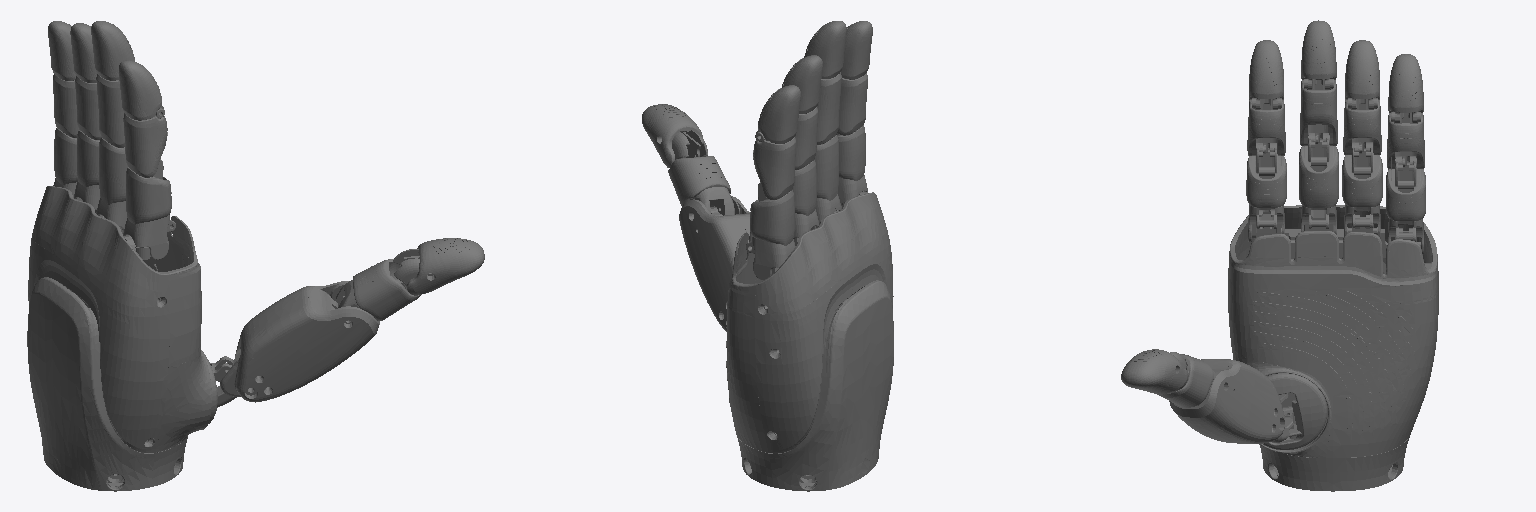
URDF robot description (omnihand_pro_left):
<?xml version="1.0" ?>
<!-- =================================================================================== -->
<!-- |    This document was autogenerated by xacro from xacro/omnihand_pro_left.xacro  | -->
<!-- |    EDITING THIS FILE BY HAND IS NOT RECOMMENDED                                 | -->
<!-- =================================================================================== -->
<robot name="omnihand_pro_left">
  <material name="black">
    <color rgba="0.5 0.5 0.5 1.0"/>
  </material>
  <link name="base_link">
    <visual>
      <origin rpy="0.0 0.0 0.0" xyz="0.0 0.0 0.0"/>
      <geometry>
        <box size="0.001 0.001 0.001"/>
      </geometry>
    </visual>
  </link>
  <joint name="L_palm_joint" type="fixed">
    <origin rpy="0.0 0.0 0.0" xyz="0.0 0.0 0.0"/>
    <parent link="base_link"/>
    <child link="L_palm"/>
  </joint>
  <link name="L_palm">
    <visual>
      <origin rpy="0 0 0" xyz="0 0 0"/>
      <geometry>
        <mesh filename="package://omnihand_pro_description/meshes/l_palm.STL"/>
      </geometry>
      <material name="black"/>
    </visual>
    <inertial>
      <origin rpy="0 0 0" xyz="-0.00425607657857528 0.000984907743219104 0.0569954669646572"/>
      <mass value="0.831592534870634"/>
      <inertia ixx="0.00130295787397277" ixy="1.00395530019145e-06" ixz="-2.62221439754335e-05" iyy="0.000759187526142393" iyz="-2.944807671301e-05" izz="0.000650439149629946"/>
    </inertial>
    <collision>
      <origin rpy="0 0 0" xyz="0 0 0.005"/>
      <geometry>
        <cylinder length="0.01" radius="0.032"/>
      </geometry>
    </collision>
    <collision>
      <origin rpy="0 0 0" xyz="0 0 0.057"/>
      <geometry>
        <box size="0.05 0.09 0.09"/>
      </geometry>
    </collision>
  </link>
  <!-- thumb  -->
  <link name="L_thumb_roll_link">
    <visual>
      <origin rpy="0 0 0" xyz="0 0 0"/>
      <geometry>
        <mesh filename="package://omnihand_pro_description/meshes/l_thumb_roll.STL"/>
      </geometry>
      <material name="black"/>
    </visual>
    <inertial>
      <origin rpy="0 0 0" xyz="0.0238985392698507 -8.492755494241e-05 0.00143588019194235"/>
      <mass value="0.0487218724123021"/>
      <inertia ixx="1.16014813613108e-05" ixy="1.23718071545455e-07" ixz="-3.36389573955908e-07" iyy="6.59632610273689e-06" iyz="2.95789245057348e-07" izz="6.64077304903063e-06"/>
    </inertial>
  </link>
  <joint name="L_thumb_roll_joint" type="revolute">
    <origin rpy="-1.3787926000000001 0 0" xyz="-0.00148 -0.022278 0.04025"/>
    <parent link="L_palm"/>
    <child link="L_thumb_roll_link"/>
    <axis xyz="1 0 0"/>
    <limit effort="0.134" lower="-0.73" upper="0" velocity="2.38"/>
  </joint>
  <link name="L_thumb_abad_link">
    <visual>
      <origin rpy="0 0 0" xyz="0 0 0"/>
      <geometry>
        <mesh filename="package://omnihand_pro_description/meshes/l_thumb_abad.STL"/>
      </geometry>
      <material name="black"/>
    </visual>
    <inertial>
      <origin rpy="0 0 0" xyz="0.00144112186551029 0.00076971553695547 0.0110530851904386"/>
      <mass value="0.00527730022012764"/>
      <inertia ixx="5.13938107714071e-07" ixy="-2.10724699229959e-09" ixz="1.0099134807133e-08" iyy="3.23678037229255e-07" iyz="6.91586588373309e-08" izz="2.43364847603047e-07"/>
    </inertial>
    <collision>
      <origin rpy="0 0 0.9" xyz="0 0 0"/>
      <geometry>
        <box size="0.035 0.006 0.02"/>
      </geometry>
    </collision>
  </link>
  <joint name="L_thumb_abad_joint" type="revolute">
    <origin rpy="3.1415926 1.0996 3.1415926" xyz="0.029071 0 -0.0033014"/>
    <parent link="L_thumb_roll_link"/>
    <child link="L_thumb_abad_link"/>
    <axis xyz="0 -1 0"/>
    <limit effort="0.317" lower="0" upper="0.94" velocity="2.33"/>
  </joint>
  <link name="L_thumb_mcp_link">
    <visual>
      <origin rpy="0 0 0" xyz="0 0 0"/>
      <geometry>
        <mesh filename="package://omnihand_pro_description/meshes/thumb_mcp.STL"/>
      </geometry>
      <material name="black"/>
    </visual>
    <inertial>
      <origin rpy="0 0 0" xyz="0.00248919792890584 -0.000126945293118824 0.0270125022282254"/>
      <mass value="0.0238744814807847"/>
      <inertia ixx="9.14065262802198e-06" ixy="-1.29455343848178e-08" ixz="1.28925259059347e-07" iyy="1.13640026182741e-05" iyz="1.59529488365259e-08" izz="2.86247043401986e-06"/>
    </inertial>
    <collision>
      <origin rpy="0 -1.57 0" xyz="0.005 0 0.03"/>
      <geometry>
        <box size="0.064 0.023 0.03"/>
      </geometry>
    </collision>
  </link>
  <joint name="L_thumb_mcp_joint" type="revolute">
    <origin rpy="0 0.66452 -1.5708" xyz="-0.0016774 -0.0068611 0.022935"/>
    <parent link="L_thumb_abad_link"/>
    <child link="L_thumb_mcp_link"/>
    <axis xyz="0 -1 0"/>
    <limit effort="0.8" lower="-0.85" upper="0" velocity="1.35"/>
  </joint>
  <link name="L_thumb_pip_link">
    <visual>
      <origin rpy="0 0 0" xyz="0 0 0"/>
      <geometry>
        <mesh filename="package://omnihand_pro_description/meshes/thumb_pip.STL"/>
      </geometry>
      <material name="black"/>
    </visual>
    <inertial>
      <origin rpy="0 0 0" xyz="-0.00238172899603142 -0.000356731641777103 0.0132495532127846"/>
      <mass value="0.015089750823072"/>
      <inertia ixx="1.307652825223e-06" ixy="-2.30842431261842e-09" ixz="1.78861814916216e-07" iyy="1.76921581769367e-06" iyz="-1.30568351519278e-08" izz="8.42951187578533e-07"/>
    </inertial>
    <collision>
      <origin rpy="0 0 0" xyz="0 -0.002 0.02"/>
      <geometry>
        <cylinder length="0.02" radius="0.01"/>
      </geometry>
    </collision>
  </link>
  <joint name="L_thumb_pip_joint" type="revolute">
    <origin rpy="0 0 0" xyz="0.0067768 0 0.05582"/>
    <parent link="L_thumb_mcp_link"/>
    <child link="L_thumb_pip_link"/>
    <axis xyz="0  -1 0"/>
    <limit effort="0.92" lower="-1.29" upper="0" velocity="1.87"/>
  </joint>
  <link name="L_thumb_dip_link">
    <visual>
      <origin rpy="0 0 0" xyz="0 0 0"/>
      <geometry>
        <mesh filename="package://omnihand_pro_description/meshes/thumb_dip.STL"/>
      </geometry>
      <material name="black"/>
    </visual>
    <inertial>
      <origin rpy="0 0 0" xyz="-0.00103086462486497 4.35579912222428e-07 0.0111718009868479"/>
      <mass value="0.0166245749238282"/>
      <inertia ixx="1.55367650349561e-06" ixy="6.28496740782693e-11" ixz="-2.68802086888384e-07" iyy="1.43025255900936e-06" iyz="3.60153740856451e-11" izz="8.87371852515915e-07"/>
    </inertial>
    <collision>
      <origin rpy="0 0 0" xyz="0 0 0.015"/>
      <geometry>
        <cylinder length="0.03" radius="0.01"/>
      </geometry>
    </collision>
  </link>
  <joint name="L_thumb_dip_joint" type="revolute">
    <origin rpy="0 0 0" xyz=" -0.0025791  0 0.034516"/>
    <parent link="L_thumb_pip_link"/>
    <child link="L_thumb_dip_link"/>
    <axis xyz="0 -1 0"/>
    <limit effort="0.92" lower="-1.31" upper="0" velocity="1.9"/>
    <mimic joint="L_thumb_pip_joint" multiplier="0.8068" offset="0"/>
  </joint>
  <link name="L_thumb_tip">
    <collision>
      <origin rpy="0 0 0" xyz="0 0 0"/>
      <geometry>
        <sphere radius="0.001"/>
      </geometry>
    </collision>
  </link>
  <joint name="L_thumb_tip_joint" type="fixed">
    <origin rpy="0 0 0" xyz="-0.01107 0 0.02778"/>
    <parent link="L_thumb_dip_link"/>
    <child link="L_thumb_tip"/>
    <axis xyz="0 0 0"/>
  </joint>
  <!-- index  -->
  <link name="L_index_abad_link">
    <visual>
      <origin rpy="0 0 0" xyz="0 0 0"/>
      <geometry>
        <mesh filename="package://omnihand_pro_description/meshes/index_abad.STL"/>
      </geometry>
      <material name="black"/>
    </visual>
    <inertial>
      <origin rpy="0 0 0" xyz="0.00904689264775126 -2.37541539321873e-06 0.00296439795566343"/>
      <mass value="0.00769184155607912"/>
      <inertia ixx="3.12253146637431e-07" ixy="8.36823610669688e-11" ixz="3.47679984094986e-08" iyy="1.96445680122249e-07" iyz="6.80359270914641e-11" izz="2.98132181313685e-07"/>
    </inertial>
  </link>
  <joint name="L_index_abad_joint" type="revolute">
    <origin rpy="0 0 0" xyz="-0.0134 -0.030778 0.11936"/>
    <parent link="L_palm"/>
    <child link="L_index_abad_link"/>
    <axis xyz="1 0 0"/>
    <limit effort="1.001" lower="-0.26" upper="0.26" velocity="2.16"/>
  </joint>
  <link name="L_index_mcp_link">
    <visual>
      <origin rpy="0 0 0" xyz="0 0 0"/>
      <geometry>
        <mesh filename="package://omnihand_pro_description/meshes/index_mcp.STL"/>
      </geometry>
      <material name="black"/>
    </visual>
    <inertial>
      <origin rpy="0 0 0" xyz="-0.00199825952289442 -2.64457175807586e-05 0.0201667389503313"/>
      <mass value="0.00942126624293676"/>
      <inertia ixx="1.22975708566729e-06" ixy="2.28040809755226e-10" ixz="-5.99595621936577e-08" iyy="1.34371119474184e-06" iyz="-7.2313211083901e-10" izz="3.61297485727319e-07"/>
    </inertial>
    <collision>
      <origin rpy="0 0 0" xyz="-0.002 0 0.016"/>
      <geometry>
        <cylinder length="0.038" radius="0.01"/>
      </geometry>
    </collision>
  </link>
  <joint name="L_index_mcp_joint" type="revolute">
    <origin rpy="0 0 0" xyz="0.01357 0 0"/>
    <parent link="L_index_abad_link"/>
    <child link="L_index_mcp_link"/>
    <axis xyz="0 1 0"/>
    <limit effort="0.42" lower="0" upper="1.33" velocity="2.22"/>
  </joint>
  <link name="L_index_pip_link">
    <visual>
      <origin rpy="0 0 0" xyz="0 0 0"/>
      <geometry>
        <mesh filename="package://omnihand_pro_description/meshes/index_pip.STL"/>
      </geometry>
      <material name="black"/>
    </visual>
    <inertial>
      <origin rpy="0 0 0" xyz="0.000915277748706721 -2.44819798689566e-05 0.0134565632396798"/>
      <mass value="0.00438956668936868"/>
      <inertia ixx="3.90192390925837e-07" ixy="-1.18711764286958e-10" ixz="3.07110243989117e-08" iyy="3.39842342249121e-07" iyz="4.52776521802555e-11" izz="2.34598309279793e-07"/>
    </inertial>
    <collision>
      <origin rpy="0 0 0" xyz="0.001 0 0.015"/>
      <geometry>
        <cylinder length="0.022" radius="0.01"/>
      </geometry>
    </collision>
  </link>
  <joint name="L_index_pip_joint" type="revolute">
    <origin rpy="0 0 0" xyz="-0.0044047 0 0.039781"/>
    <parent link="L_index_mcp_link"/>
    <child link="L_index_pip_link"/>
    <axis xyz="0 1 0"/>
    <limit effort="0.216" lower="0" upper="1.48" velocity="2.49"/>
  </joint>
  <link name="L_index_dip_link">
    <visual>
      <origin rpy="0 0 0" xyz="0 0 0"/>
      <geometry>
        <mesh filename="package://omnihand_pro_description/meshes/finger_dip.STL"/>
      </geometry>
      <material name="black"/>
    </visual>
    <inertial>
      <origin rpy="0 0 0" xyz="-0.00788115735969092 -1.62686611911711e-05 0.00734085069241115"/>
      <mass value="0.00919575167024177"/>
      <inertia ixx="6.1598320028546e-07" ixy="4.87748545899042e-10" ixz="-1.46101909693797e-07" iyy="6.32146337383652e-07" iyz="-1.82637544331928e-09" izz="3.00226734906959e-07"/>
    </inertial>
    <collision>
      <origin rpy="0 0 0" xyz="-0.006 0 0.013"/>
      <geometry>
        <cylinder length="0.02" radius="0.01"/>
      </geometry>
    </collision>
  </link>
  <joint name="L_index_dip_joint" type="revolute">
    <origin rpy="0 0 0" xyz=" 0.0058514  0 0.026478"/>
    <parent link="L_index_pip_link"/>
    <child link="L_index_dip_link"/>
    <axis xyz="0 1 0"/>
    <limit effort="0.216" lower="0" upper="1.31" velocity="2.85"/>
    <mimic joint="L_index_pip_joint" multiplier="1.0362" offset="0"/>
  </joint>
  <link name="L_index_tip">
    <collision>
      <origin rpy="0 0 0" xyz="0 0 0"/>
      <geometry>
        <sphere radius="0.001"/>
      </geometry>
    </collision>
  </link>
  <joint name="L_index_tip_joint" type="fixed">
    <origin rpy="0 0 0" xyz="-0.01465 0 0.02533"/>
    <parent link="L_index_dip_link"/>
    <child link="L_index_tip"/>
  </joint>
  <!-- middle  -->
  <link name="L_middle_abad_link">
    <visual>
      <origin rpy="0 0 0" xyz="0 0 0"/>
      <geometry>
        <mesh filename="package://omnihand_pro_description/meshes/middle_abad.STL"/>
      </geometry>
      <material name="black"/>
    </visual>
    <inertial>
      <origin rpy="0 0 0" xyz="0.00886137366293534 -3.75661207696609e-09 0.00266832955690114"/>
      <mass value="0.00637102949978218"/>
      <inertia ixx="2.41627954466445e-07" ixy="2.52962153485538e-12" ixz="2.44913153285072e-08" iyy="1.58576266250976e-07" iyz="5.93368216213693e-13" izz="2.58849212903404e-07"/>
    </inertial>
  </link>
  <joint name="L_middle_abad_joint" type="revolute">
    <origin rpy="0 0 0" xyz="-0.0134 -0.0066607 0.11936"/>
    <parent link="L_palm"/>
    <child link="L_middle_abad_link"/>
    <axis xyz="1 0 0"/>
    <limit effort="1.031" lower="-0.26" upper="0.26" velocity="2.16"/>
  </joint>
  <link name="L_middle_mcp_link">
    <visual>
      <origin rpy="0 0 0" xyz="0 0 0"/>
      <geometry>
        <mesh filename="package://omnihand_pro_description/meshes/middle_mcp.STL"/>
      </geometry>
      <material name="black"/>
    </visual>
    <inertial>
      <origin rpy="0 0 0" xyz="-0.00165476847526829 -2.20979993567627e-06 0.0225332391057417"/>
      <mass value="0.0105445601098368"/>
      <inertia ixx="1.73042184201086e-06" ixy="2.04331701697306e-10" ixz="-5.90285580204209e-08" iyy="1.85661332749592e-06" iyz="-1.32105746258306e-09" izz="4.2136357029816e-07"/>
    </inertial>
    <collision>
      <origin rpy="0 0 0" xyz="-0.002 0 0.016"/>
      <geometry>
        <cylinder length="0.04" radius="0.01"/>
      </geometry>
    </collision>
  </link>
  <joint name="L_middle_mcp_joint" type="revolute">
    <origin rpy="0 0 0" xyz="0.01337 0 0"/>
    <parent link="L_middle_abad_link"/>
    <child link="L_middle_mcp_link"/>
    <axis xyz="0 1 0"/>
    <limit effort="0.413" lower="0" upper="1.33" velocity="2.22"/>
  </joint>
  <link name="L_middle_pip_link">
    <visual>
      <origin rpy="0 0 0" xyz="0 0 0"/>
      <geometry>
        <mesh filename="package://omnihand_pro_description/meshes/middle_pip.STL"/>
      </geometry>
      <material name="black"/>
    </visual>
    <inertial>
      <origin rpy="0 0 0" xyz="0.000830746222013005 4.34482098339573e-05 0.0161492835641447"/>
      <mass value="0.00495728561619528"/>
      <inertia ixx="5.48440909443586e-07" ixy="6.39554522791554e-11" ixz="4.33803111439142e-08" iyy="4.91459567907306e-07" iyz="-6.02486738632266e-11" izz="2.62953076584762e-07"/>
    </inertial>
    <collision>
      <origin rpy="0 0 0" xyz="0.001 0 0.014"/>
      <geometry>
        <cylinder length="0.028" radius="0.01"/>
      </geometry>
    </collision>
  </link>
  <joint name="L_middle_pip_joint" type="revolute">
    <origin rpy="0 0 0" xyz="-0.0040396 0 0.044837"/>
    <parent link="L_middle_mcp_link"/>
    <child link="L_middle_pip_link"/>
    <axis xyz="0 1 0"/>
    <limit effort="0.136" lower="0" upper="1.71" velocity="2.16"/>
  </joint>
  <link name="L_middle_dip_link">
    <visual>
      <origin rpy="0 0 0" xyz="0 0 0"/>
      <geometry>
        <mesh filename="package://omnihand_pro_description/meshes/finger_dip.STL"/>
      </geometry>
      <material name="black"/>
    </visual>
    <inertial>
      <origin rpy="0 0 0" xyz="-0.00783321210053064 0.000103726115592395 0.00739196062285884"/>
      <mass value="0.00919573396837047"/>
      <inertia ixx="6.17868791705364e-07" ixy="4.75945812309197e-10" ixz="-1.44033848644933e-07" iyy="6.32143569461496e-07" iyz="-1.83019369609838e-09" izz="2.98337914527375e-07"/>
    </inertial>
    <collision>
      <origin rpy="0 0 0" xyz="-0.006 0 0.014"/>
      <geometry>
        <cylinder length="0.018" radius="0.01"/>
      </geometry>
    </collision>
  </link>
  <joint name="L_middle_dip_joint" type="revolute">
    <origin rpy="0 0 0" xyz=" 0.005529  0 0.031336"/>
    <parent link="L_middle_pip_link"/>
    <child link="L_middle_dip_link"/>
    <axis xyz="0 1 0"/>
    <limit effort="0.136" lower="0" upper="1.31" velocity="2.48"/>
    <mimic joint="L_middle_pip_joint" multiplier="1.0924" offset="0"/>
  </joint>
  <link name="L_middle_tip">
    <collision>
      <origin rpy="0 0 0" xyz="0 0 0"/>
      <geometry>
        <sphere radius="0.001"/>
      </geometry>
    </collision>
  </link>
  <joint name="L_middle_tip_joint" type="fixed">
    <origin rpy="0 0 0" xyz="-0.01465 0 0.02533"/>
    <parent link="L_middle_dip_link"/>
    <child link="L_middle_tip"/>
  </joint>
  <joint name="L_ring_mcp_joint" type="revolute">
    <origin rpy="0.0 0.0 0.0" xyz="0.0001598 0.013518 0.11972"/>
    <parent link="L_palm"/>
    <child link="L_ring_mcp_link"/>
    <axis xyz="0 1 0"/>
    <limit effort="0.444" lower="0" upper="1.38" velocity="2.54"/>
  </joint>
  <!-- ring  -->
  <link name="L_ring_mcp_link">
    <visual>
      <origin rpy="0 0 0" xyz="0 0 0"/>
      <geometry>
        <mesh filename="package://omnihand_pro_description/meshes/ring_mcp.STL"/>
      </geometry>
      <material name="black"/>
    </visual>
    <inertial>
      <origin rpy="0 0 0" xyz="-0.00161802170047008 2.08220096852268e-05 0.0212342177709951"/>
      <mass value="0.0047795328266326"/>
      <inertia ixx="5.43923252152409e-07" ixy="8.48896522637981e-11" ixz="2.4689478865027e-08" iyy="5.41640127982143e-07" iyz="2.5218290048469e-10" izz="1.76501748993068e-07"/>
    </inertial>
    <collision>
      <origin rpy="0 0 0" xyz="-0.002 0 0.014"/>
      <geometry>
        <cylinder length="0.035" radius="0.01"/>
      </geometry>
    </collision>
  </link>
  <link name="L_ring_pip_link">
    <visual>
      <origin rpy="0 0 0" xyz="0 0 0"/>
      <geometry>
        <mesh filename="package://omnihand_pro_description/meshes/ring_pip.STL"/>
      </geometry>
      <material name="black"/>
    </visual>
    <inertial>
      <origin rpy="0 0 0" xyz="0.000940340714750308 1.66667751162405e-05 0.0134216382614548"/>
      <mass value="0.0047795328266326"/>
      <inertia ixx="2.25767846748625e-07" ixy="-4.61360531413437e-12" ixz="2.32301202429608e-09" iyy="1.61875511170868e-07" iyz="9.05860342855209e-12" izz="1.17700137222491e-07"/>
    </inertial>
    <collision>
      <origin rpy="0 0 0" xyz="0.0015 0 0.014"/>
      <geometry>
        <cylinder length="0.028" radius="0.01"/>
      </geometry>
    </collision>
  </link>
  <joint name="L_ring_pip_joint" type="revolute">
    <origin rpy="0 0 0" xyz="-0.0039371 0 0.03983"/>
    <parent link="L_ring_mcp_link"/>
    <child link="L_ring_pip_link"/>
    <axis xyz="0 1 0"/>
    <limit effort="0.444" lower="0" upper="1.57" velocity="2.29"/>
    <mimic joint="L_ring_mcp_joint" multiplier="0.877" offset="0"/>
  </joint>
  <link name="L_ring_dip_link">
    <visual>
      <origin rpy="0 0 0" xyz="0 0 0"/>
      <geometry>
        <mesh filename="package://omnihand_pro_description/meshes/finger_dip.STL"/>
      </geometry>
      <material name="black"/>
    </visual>
    <inertial>
      <origin rpy="0 0 0" xyz="-0.0077943915041099 -2.51275100347781e-05 0.00743291370409035"/>
      <mass value="0.00919575186910556"/>
      <inertia ixx="6.19370856718727e-07" ixy="4.661874813998e-10" ixz="-1.42352843928183e-07" iyy="6.32145627609476e-07" iyz="-1.83190371320788e-09" izz="2.9683840460863e-07"/>
    </inertial>
    <collision>
      <origin rpy="0 0 0" xyz="-0.006 0 0.014"/>
      <geometry>
        <cylinder length="0.018" radius="0.01"/>
      </geometry>
    </collision>
  </link>
  <joint name="L_ring_dip_joint" type="revolute">
    <origin rpy="0 0 0" xyz=" 0.006162  0 0.026407"/>
    <parent link="L_ring_pip_link"/>
    <child link="L_ring_dip_link"/>
    <axis xyz="0 1 0"/>
    <limit effort="0.444" lower="0" upper="1.31" velocity="2.62"/>
    <mimic joint="L_ring_mcp_joint" multiplier="0.9394" offset="0"/>
  </joint>
  <link name="L_ring_tip">
    <collision>
      <origin rpy="0 0 0" xyz="0 0 0"/>
      <geometry>
        <sphere radius="0.001"/>
      </geometry>
    </collision>
  </link>
  <joint name="L_ring_tip_joint" type="fixed">
    <origin rpy="0 0 0" xyz="-0.01465 0 0.02533"/>
    <parent link="L_ring_dip_link"/>
    <child link="L_ring_tip"/>
  </joint>
  <joint name="L_pinky_mcp_joint" type="revolute">
    <origin rpy="0.0 0.0 0.0" xyz="0.0001598 0.033576 0.11272"/>
    <parent link="L_palm"/>
    <child link="L_pinky_mcp_link"/>
    <axis xyz="0 1 0"/>
    <limit effort="0.444" lower="0" upper="1.38" velocity="2.54"/>
  </joint>
  <!-- ring  -->
  <link name="L_pinky_mcp_link">
    <visual>
      <origin rpy="0 0 0" xyz="0 0 0"/>
      <geometry>
        <mesh filename="package://omnihand_pro_description/meshes/ring_mcp.STL"/>
      </geometry>
      <material name="black"/>
    </visual>
    <inertial>
      <origin rpy="0 0 0" xyz="-0.00161802170047008 2.08220096852268e-05 0.0212342177709951"/>
      <mass value="0.0047795328266326"/>
      <inertia ixx="5.43923252152409e-07" ixy="8.48896522637981e-11" ixz="2.4689478865027e-08" iyy="5.41640127982143e-07" iyz="2.5218290048469e-10" izz="1.76501748993068e-07"/>
    </inertial>
    <collision>
      <origin rpy="0 0 0" xyz="-0.002 0 0.014"/>
      <geometry>
        <cylinder length="0.035" radius="0.01"/>
      </geometry>
    </collision>
  </link>
  <link name="L_pinky_pip_link">
    <visual>
      <origin rpy="0 0 0" xyz="0 0 0"/>
      <geometry>
        <mesh filename="package://omnihand_pro_description/meshes/ring_pip.STL"/>
      </geometry>
      <material name="black"/>
    </visual>
    <inertial>
      <origin rpy="0 0 0" xyz="0.000940340714750308 1.66667751162405e-05 0.0134216382614548"/>
      <mass value="0.0047795328266326"/>
      <inertia ixx="2.25767846748625e-07" ixy="-4.61360531413437e-12" ixz="2.32301202429608e-09" iyy="1.61875511170868e-07" iyz="9.05860342855209e-12" izz="1.17700137222491e-07"/>
    </inertial>
    <collision>
      <origin rpy="0 0 0" xyz="0.0015 0 0.014"/>
      <geometry>
        <cylinder length="0.028" radius="0.01"/>
      </geometry>
    </collision>
  </link>
  <joint name="L_pinky_pip_joint" type="revolute">
    <origin rpy="0 0 0" xyz="-0.0039371 0 0.03983"/>
    <parent link="L_pinky_mcp_link"/>
    <child link="L_pinky_pip_link"/>
    <axis xyz="0 1 0"/>
    <limit effort="0.444" lower="0" upper="1.57" velocity="2.29"/>
    <mimic joint="L_pinky_mcp_joint" multiplier="0.877" offset="0"/>
  </joint>
  <link name="L_pinky_dip_link">
    <visual>
      <origin rpy="0 0 0" xyz="0 0 0"/>
      <geometry>
        <mesh filename="package://omnihand_pro_description/meshes/finger_dip.STL"/>
      </geometry>
      <material name="black"/>
    </visual>
    <inertial>
      <origin rpy="0 0 0" xyz="-0.0077943915041099 -2.51275100347781e-05 0.00743291370409035"/>
      <mass value="0.00919575186910556"/>
      <inertia ixx="6.19370856718727e-07" ixy="4.661874813998e-10" ixz="-1.42352843928183e-07" iyy="6.32145627609476e-07" iyz="-1.83190371320788e-09" izz="2.9683840460863e-07"/>
    </inertial>
    <collision>
      <origin rpy="0 0 0" xyz="-0.006 0 0.014"/>
      <geometry>
        <cylinder length="0.018" radius="0.01"/>
      </geometry>
    </collision>
  </link>
  <joint name="L_pinky_dip_joint" type="revolute">
    <origin rpy="0 0 0" xyz=" 0.006162  0 0.026407"/>
    <parent link="L_pinky_pip_link"/>
    <child link="L_pinky_dip_link"/>
    <axis xyz="0 1 0"/>
    <limit effort="0.444" lower="0" upper="1.31" velocity="2.62"/>
    <mimic joint="L_pinky_mcp_joint" multiplier="0.9394" offset="0"/>
  </joint>
  <link name="L_pinky_tip">
    <collision>
      <origin rpy="0 0 0" xyz="0 0 0"/>
      <geometry>
        <sphere radius="0.001"/>
      </geometry>
    </collision>
  </link>
  <joint name="L_pinky_tip_joint" type="fixed">
    <origin rpy="0 0 0" xyz="-0.01465 0 0.02533"/>
    <parent link="L_pinky_dip_link"/>
    <child link="L_pinky_tip"/>
  </joint>
</robot>

--- What the picture shows (computed from the rendered views, not written in the file) ---
Views: 3 orthographic renders of the robot side by side, from view 1: azimuth 30°, elevation 25°; view 2: azimuth 150°, elevation 25°; view 3: azimuth 270°, elevation 25°.
Robot: omnihand_pro_left — 26 links, 25 joints (19 revolute, 6 fixed); root link base_link; default pose: all joints at 0.
Visible links, largest first — view 1: L_palm, L_thumb_mcp_link, L_thumb_dip_link, L_index_mcp_link, L_thumb_pip_link, L_index_pip_link, L_middle_mcp_link, L_index_dip_link, L_middle_dip_link, L_middle_pip_link, L_ring_mcp_link, L_pinky_mcp_link (+5 smaller); view 2: L_palm, L_thumb_mcp_link, L_pinky_mcp_link, L_thumb_pip_link, L_thumb_dip_link, L_pinky_pip_link, L_pinky_dip_link, L_index_mcp_link, L_middle_mcp_link, L_middle_dip_link, L_ring_mcp_link, L_index_dip_link (+4 smaller); view 3: L_palm, L_thumb_mcp_link, L_middle_mcp_link, L_ring_mcp_link, L_index_mcp_link, L_pinky_mcp_link, L_thumb_roll_link, L_thumb_dip_link, L_pinky_dip_link, L_ring_dip_link, L_middle_dip_link, L_index_dip_link (+5 smaller).
Boxes of the visible links, x1,y1,x2,y2 form: L_palm: (27,186,211,491); L_thumb_mcp_link: (220,281,379,402); L_thumb_dip_link: (393,238,484,295); L_index_mcp_link: (123,159,175,259); L_thumb_pip_link: (336,259,420,320); L_index_pip_link: (123,108,167,177); L_middle_mcp_link: (96,138,127,233); L_index_dip_link: (119,60,163,120); L_middle_dip_link: (91,21,134,80); L_middle_pip_link: (96,74,124,147); L_ring_mcp_link: (74,130,99,209); L_pinky_mcp_link: (53,128,81,200); L_palm: (726,191,893,491); L_thumb_mcp_link: (679,196,749,331); L_pinky_mcp_link: (746,182,795,279); L_thumb_pip_link: (668,156,734,215); L_thumb_dip_link: (642,104,707,167); L_pinky_pip_link: (753,132,795,199); L_pinky_dip_link: (756,85,800,143); L_index_mcp_link: (837,125,867,207); L_middle_mcp_link: (811,135,841,229); L_middle_dip_link: (804,21,846,78); L_ring_mcp_link: (792,160,819,238); L_index_dip_link: (841,21,872,79); L_palm: (1228,205,1438,491); L_thumb_mcp_link: (1169,359,1284,443); L_middle_mcp_link: (1299,133,1338,234); L_ring_mcp_link: (1342,142,1382,238); L_index_mcp_link: (1246,143,1286,241); L_pinky_mcp_link: (1386,156,1425,254); L_thumb_roll_link: (1263,373,1326,449); L_thumb_dip_link: (1121,349,1188,394); L_pinky_dip_link: (1388,54,1423,123); L_ring_dip_link: (1345,40,1379,109); L_middle_dip_link: (1301,20,1336,89); L_index_dip_link: (1249,40,1283,109).
Bounding box of the posed robot: 0.1703 × 0.1468 × 0.2241 m (x, y, z).
20 mesh visuals loaded from 15 distinct referenced files (15 binary STL).
